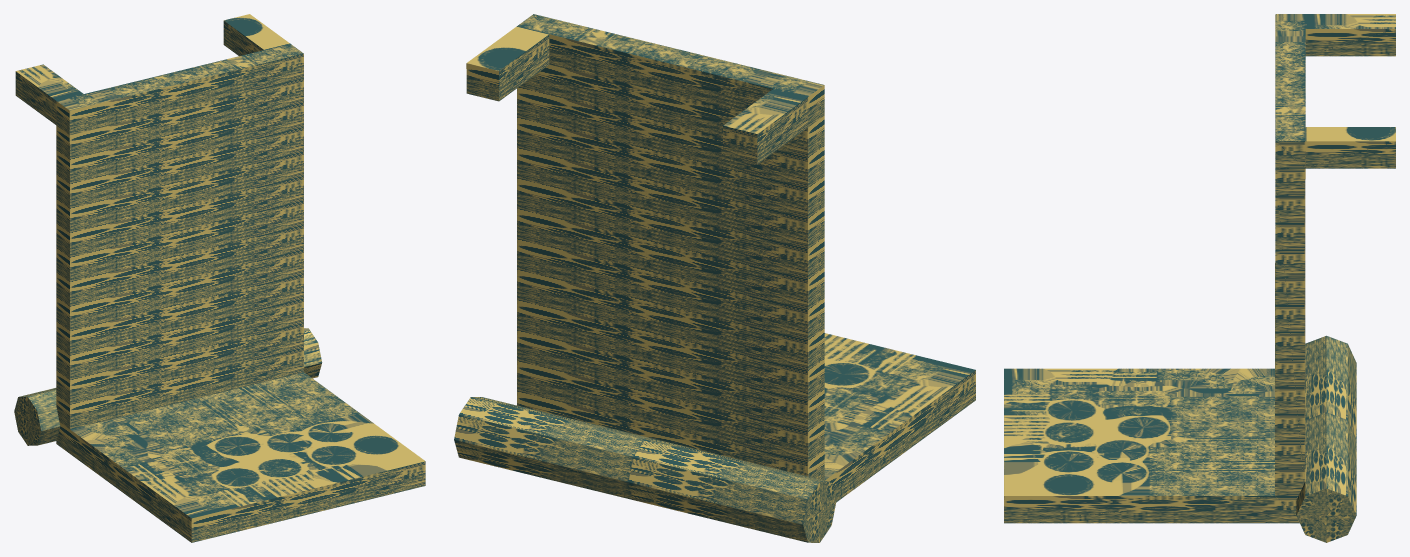
The model's file is crate mover.fbx.
3 renders of one model, left to right at view 1: azimuth 30°, elevation 25°; view 2: azimuth 150°, elevation 25°; view 3: azimuth 270°, elevation 25°, orthographic. The views are drawn at different scales.
Visible parts, largest first — view 1: crate_mover; view 2: crate_mover; view 3: crate_mover.
Boxes of the visible parts, x1,y1,x2,y2 form: crate_mover: (14, 14, 425, 542); crate_mover: (454, 14, 975, 542); crate_mover: (1004, 14, 1395, 542).
Size of the model in its own units: 120 by 142 by 130.
